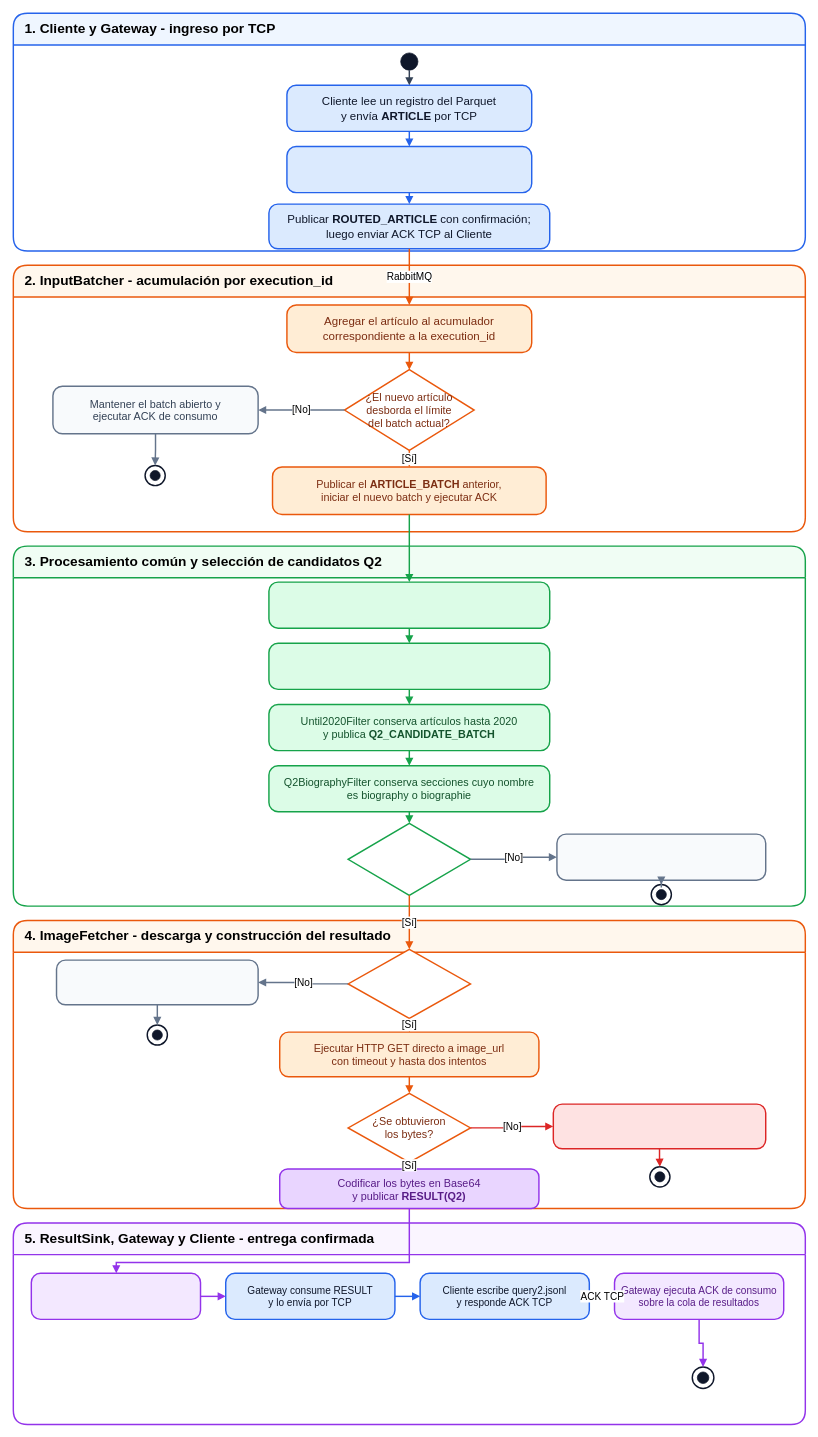
Some shapes in this 818 by 1437 pixel diagram are drawn without their labels. Here are the shapes that lost their labels. From the top down, the centre of each, then its label:
pixel 409 169: Gateway recibe y valida el artículo; agrega execution_id y reply_queue
pixel 409 605: Preprocessor normaliza campos y publica NORMALIZED_ARTICLE_BATCH
pixel 409 666: QueryRouter proyecta los campos de Q1/Q2 y publica Q1_Q2_ARTICLE_BATCH
pixel 409 859: ¿Quedaron candidatos Q2?
pixel 661 857: Publicar batch vacío y continuar sin resultados para estos artículos
pixel 156 982: Registrar warning y omitir el candidato sin URL
pixel 409 983: ¿El candidato tiene image_url?
pixel 659 1126: Registrar el error HTTP o de red y omitir el candidato
pixel 115 1296: ResultSink publica en results.<execution_id>
